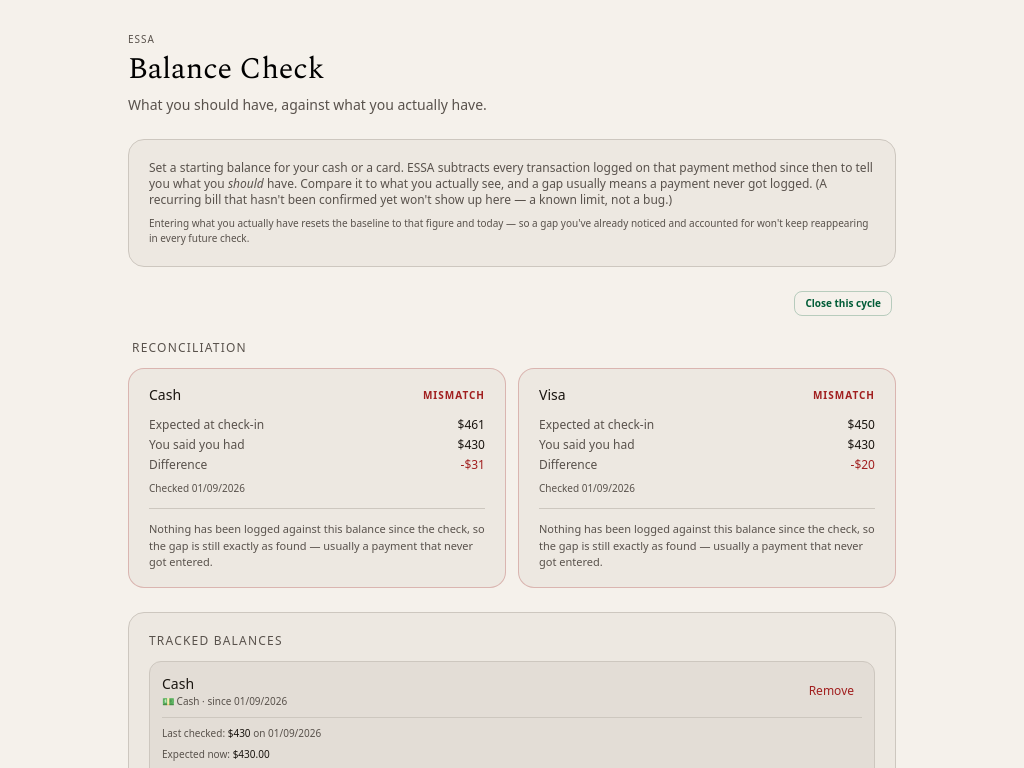
Test case: 2. marking a gap accounted for › has no bulk control — acknowledgement is per account, by construction
Click the button "Close this cycle" at {"x": 843, "y": 304}, box x1=794 y1=291 x2=892 y2=316
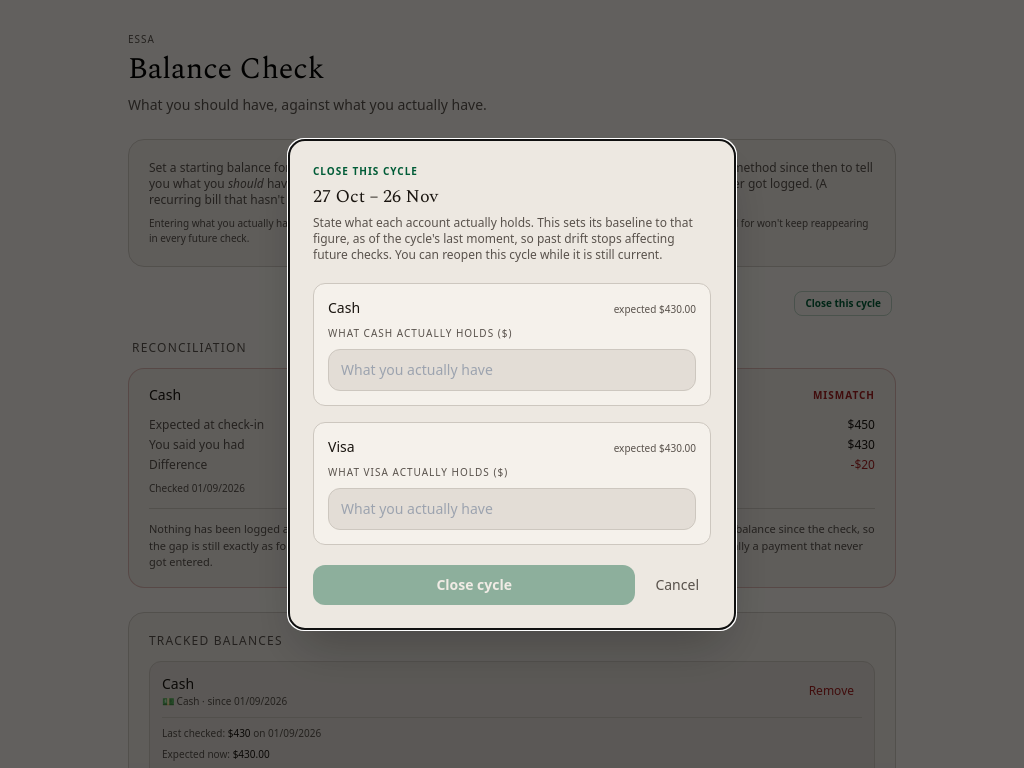
Type "400" into the field labelled "What Cash actually holds ($)" at {"x": 512, "y": 370}, box x1=328 y1=348 x2=696 y2=390
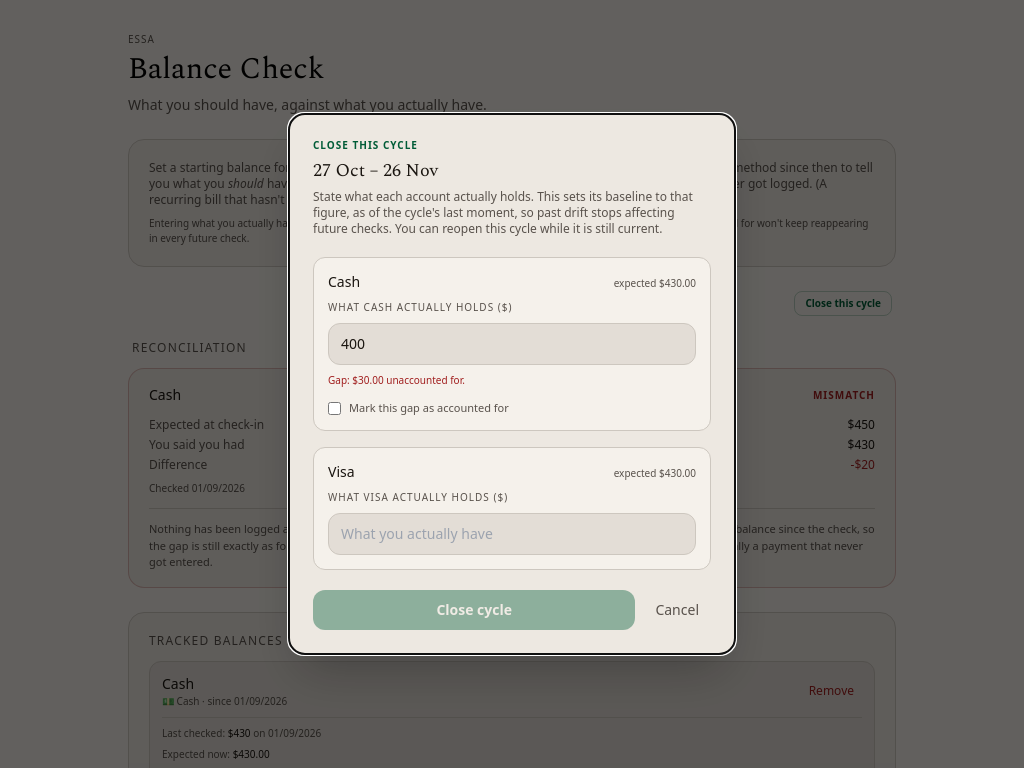
Type "400" into the field labelled "What Visa actually holds ($)" at {"x": 512, "y": 534}, box x1=328 y1=513 x2=696 y2=555
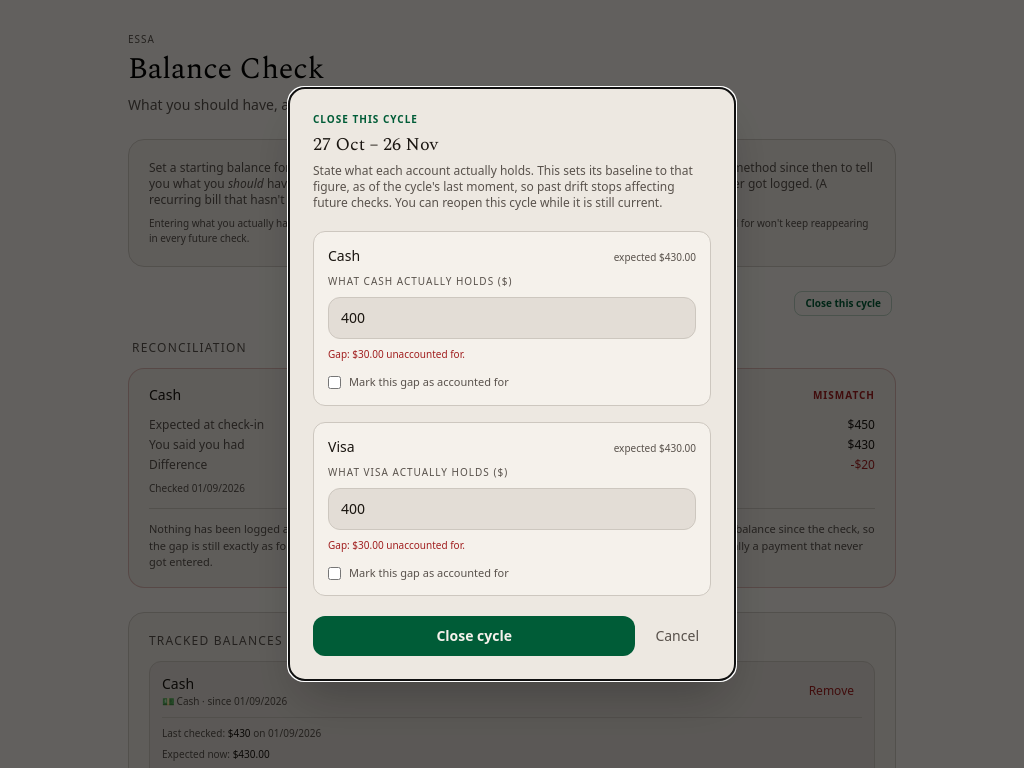
Now the number of checkboxes labelled "Mark this gap as accounted for" is 2, box x1=328 y1=376 x2=341 y2=389; x1=328 y1=566 x2=341 y2=580
